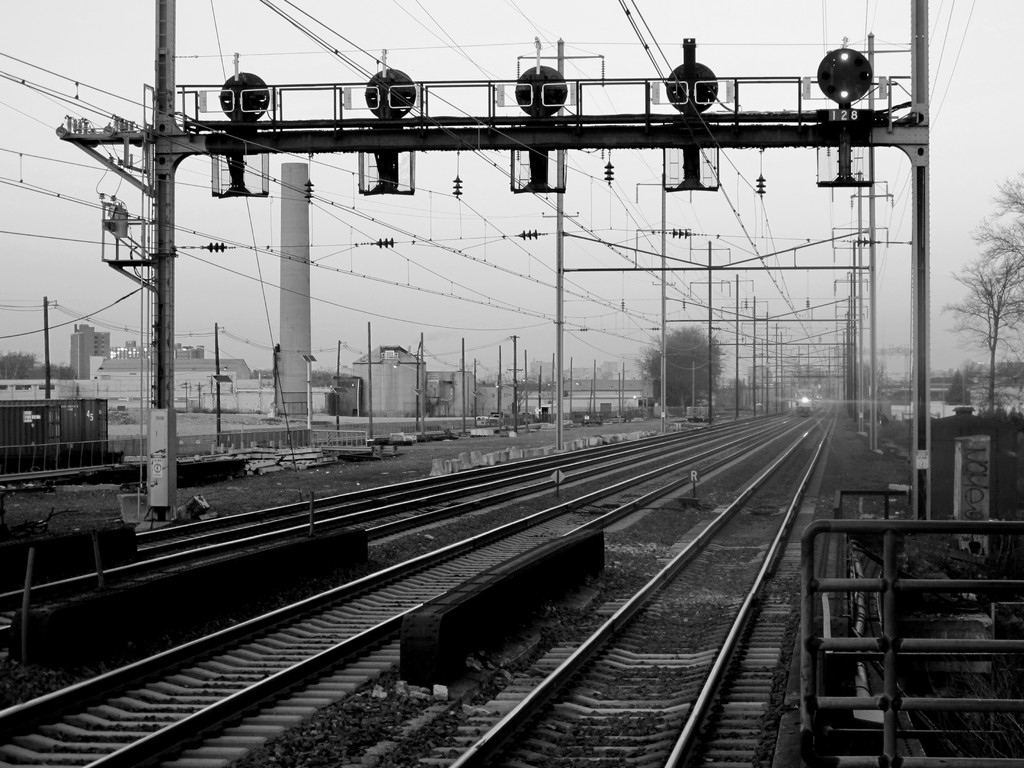train: (797, 396, 810, 416)
